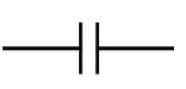Capacitor: (66, 20, 111, 77)
